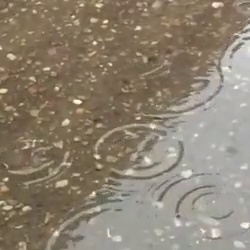drop: (155, 172, 248, 238), (129, 53, 221, 118), (96, 123, 183, 179), (49, 199, 122, 250), (1, 135, 71, 184), (221, 26, 250, 78), (234, 1, 250, 16)
